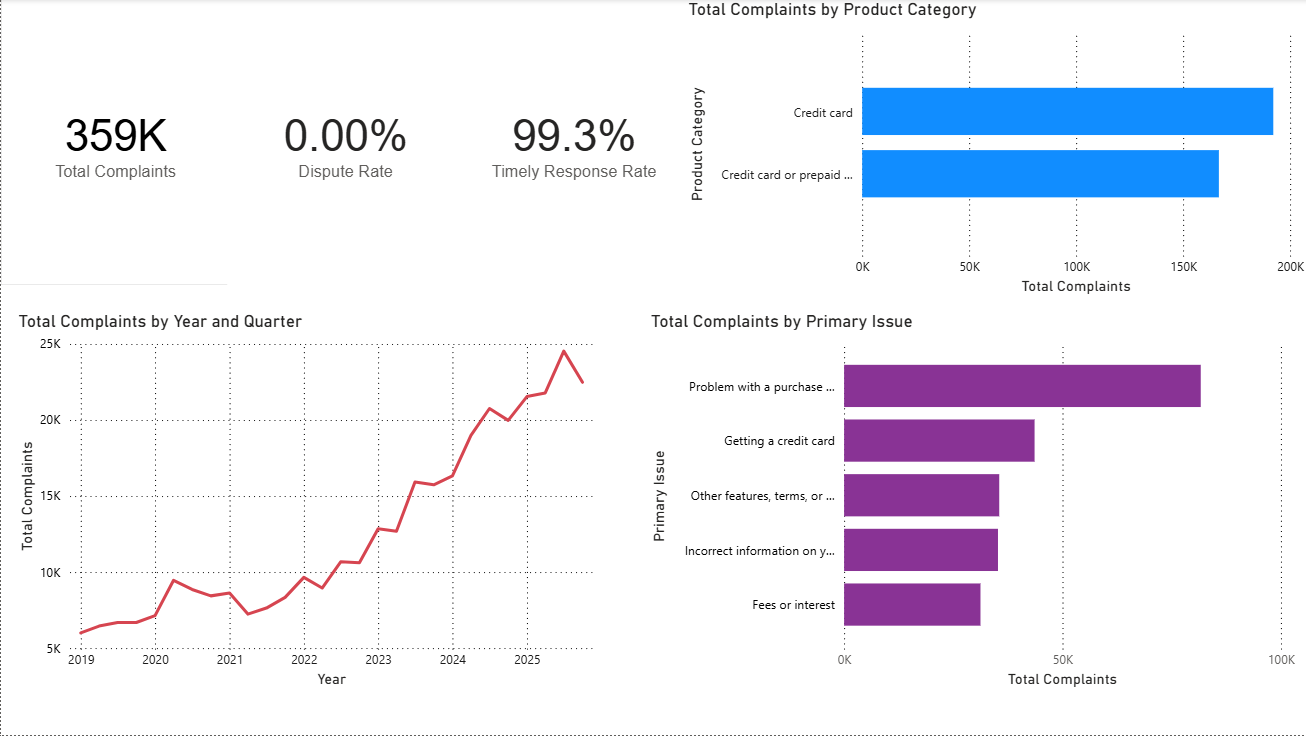

What the dashboard file says about the page in this screenshot:
{"tool":"powerbi","page":{"name":"Executive Summary","canvas":[1280,720],"ordinal":0},"visuals":[{"type":"card","fields":{"Values":["complaints.Total Complaints"]},"box":[0,0,224.8,280.3],"z":0},{"type":"card","fields":{"Values":["complaints.Dispute Rate"]},"box":[221.8,0,231.9,280.3],"z":1000},{"type":"card","fields":{"Values":["complaints.Timely Response Rate"]},"box":[450.7,0,219.4,280.3],"z":2000},{"type":"lineChart","fields":{"Category":["complaints.Complaint Date.Variation.Date Hierarchy.Year","complaints.Complaint Date.Variation.Date Hierarchy.Quarter","complaints.Complaint Date.Variation.Date Hierarchy.Month","complaints.Complaint Date.Variation.Date Hierarchy.Day"],"Y":["complaints.Total Complaints"]},"box":[12.6,304.4,574.8,373.5],"z":3000},{"type":"clusteredBarChart","fields":{"Category":["complaints.Product Category"],"Y":["complaints.Total Complaints"]},"box":[667.2,0,612.5,281.2],"z":4000},{"type":"clusteredBarChart","fields":{"Category":["complaints.Primary Issue"],"Y":["complaints.Total Complaints"]},"box":[631.3,304.5,640.3,373.4],"z":5000}]}

Visuals, with their boxes in screenshot pixels (x1, y1, x2, y2), scaled from the page's 1280x720 canvas onto the 1306x736 screenshot:
card - complaints.Total Complaints: [0, 0, 229, 287]
card - complaints.Dispute Rate: [226, 0, 463, 287]
card - complaints.Timely Response Rate: [460, 0, 684, 287]
lineChart - complaints.Complaint Date.Variation.Date Hierarchy.Year x complaints.Complaint Date.Variation.Date Hierarchy.Quarter: [13, 311, 599, 693]
clusteredBarChart - complaints.Product Category x complaints.Total Complaints: [681, 0, 1305, 287]
clusteredBarChart - complaints.Primary Issue x complaints.Total Complaints: [644, 311, 1297, 693]
